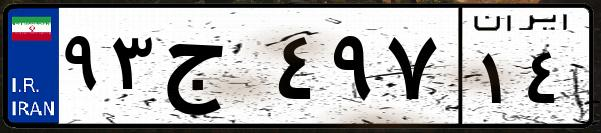1: (475, 38, 525, 113)
3: (110, 28, 158, 98)
4: (270, 28, 330, 110), (525, 38, 570, 115)
7: (385, 28, 445, 110)
9: (330, 28, 385, 110), (57, 26, 110, 100)
ج: (158, 20, 270, 120)
